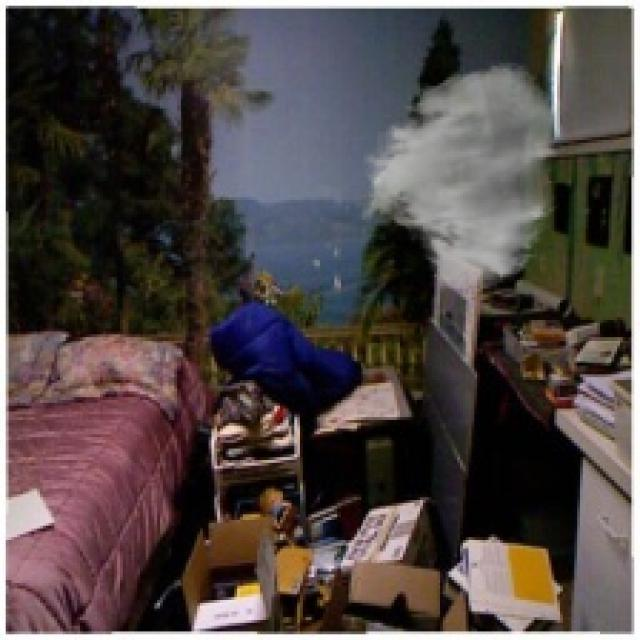Smoke: (357, 59, 566, 294)
